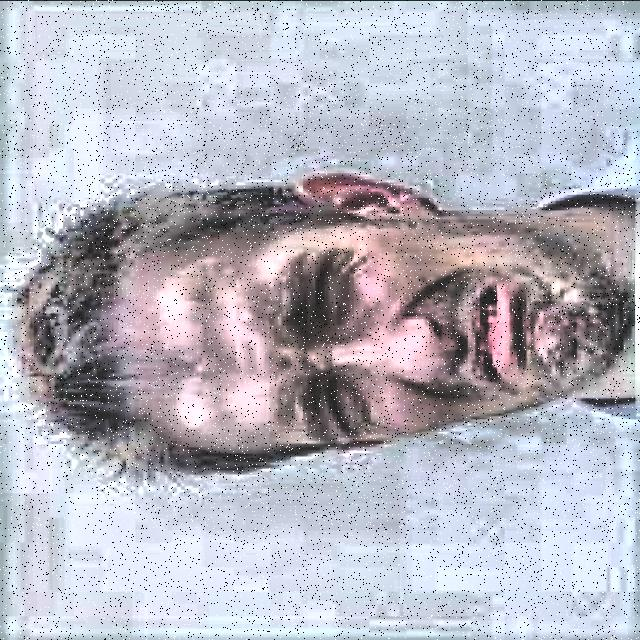disgust: (2, 163, 640, 492)
